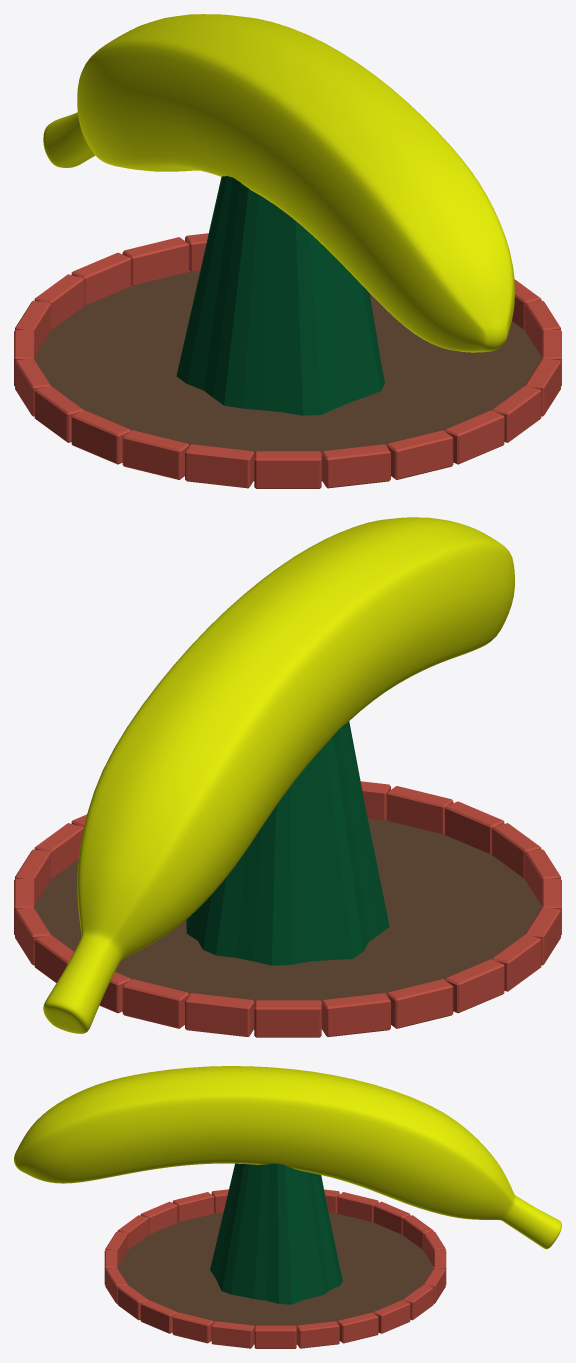
The model's file is BananaBurst.fbx.
The picture shows the model from 3 angles, top to bottom: view 1: azimuth 30°, elevation 25°; view 2: azimuth 150°, elevation 25°; view 3: azimuth 270°, elevation 25°; orthographic projection. The views are drawn at different scales.
Visible parts, largest first — view 1: Banana_low, Cylinder, Cylinder.001, Cube.002; view 2: Banana_low, Cylinder, Cube.002, Cylinder.001; view 3: Banana_low, Cylinder, Cube.002, Cylinder.001.
Boxes of the visible parts, left/top/right/bottom form: Banana_low: left=43, top=14, right=514, bottom=352; Cylinder: left=34, top=270, right=541, bottom=480; Cylinder.001: left=176, top=175, right=384, bottom=415; Cube.002: left=14, top=233, right=561, bottom=488; Banana_low: left=43, top=517, right=514, bottom=1033; Cylinder: left=34, top=818, right=541, bottom=1029; Cube.002: left=14, top=781, right=561, bottom=1037; Cylinder.001: left=186, top=721, right=389, bottom=965; Banana_low: left=14, top=1066, right=561, bottom=1249; Cylinder: left=117, top=1212, right=433, bottom=1344; Cube.002: left=104, top=1189, right=446, bottom=1348; Cylinder.001: left=210, top=1163, right=342, bottom=1304.
Bounding box in the file's own units: 1636 × 1098 × 2623.
